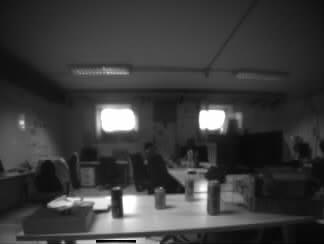Tin can: (207, 180, 220, 215), (111, 187, 123, 217), (185, 174, 195, 201), (156, 188, 166, 208)
